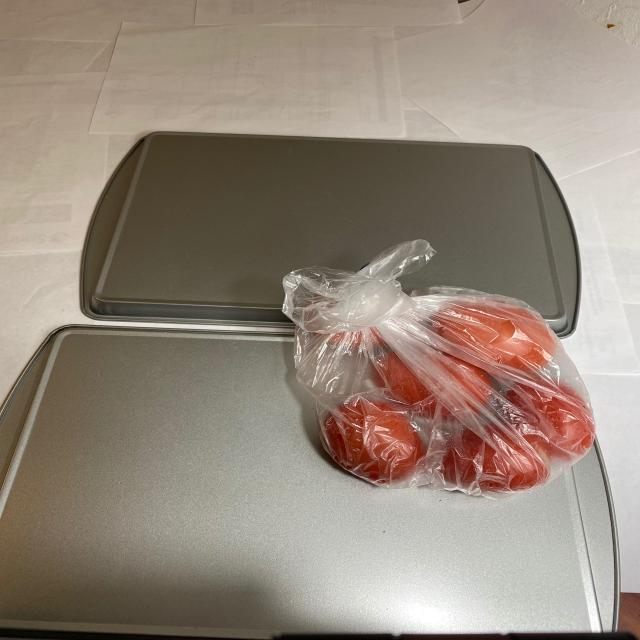tomato: (291, 287, 600, 494)
